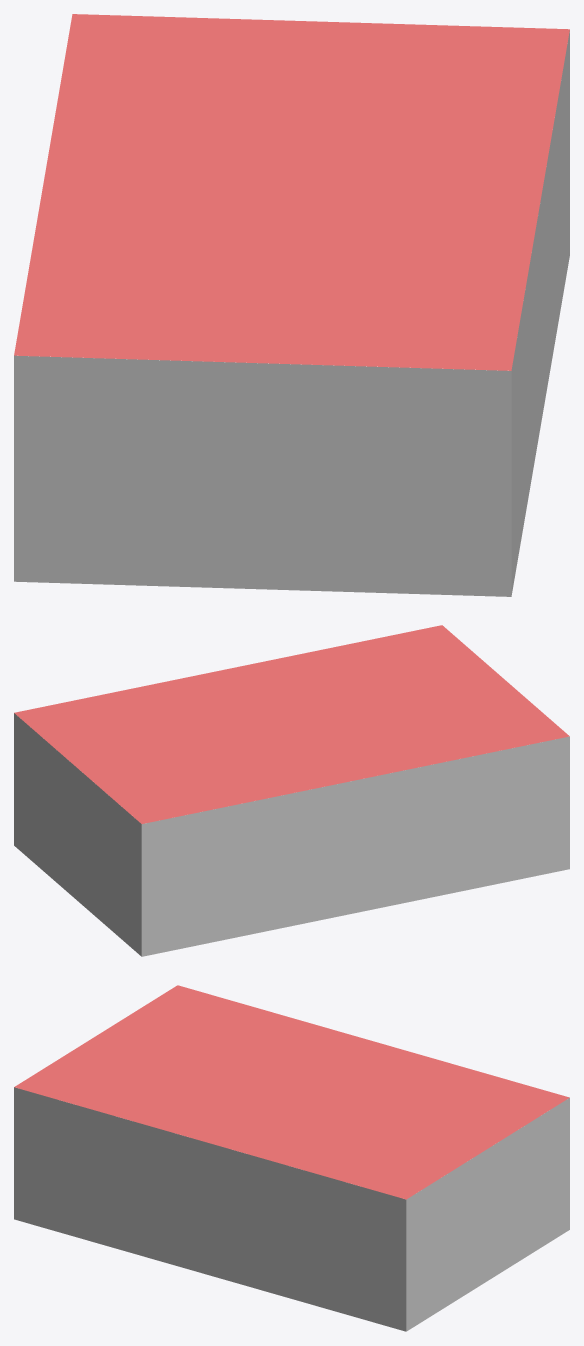
3 renders of one model, top to bottom at view 1: azimuth 30°, elevation 25°; view 2: azimuth 150°, elevation 25°; view 3: azimuth 270°, elevation 25°, orthographic. The views are drawn at different scales.
Parts seen in each view (by area): view 1: Z_UP; view 2: Z_UP; view 3: Z_UP.
Part boxes in pixels (left/top/right/bottom): Z_UP: left=14, top=14, right=569, bottom=596; Z_UP: left=14, top=625, right=569, bottom=956; Z_UP: left=14, top=985, right=569, bottom=1331.
Bounding box in the file's own units: 13.92 × 4 × 15.25.
